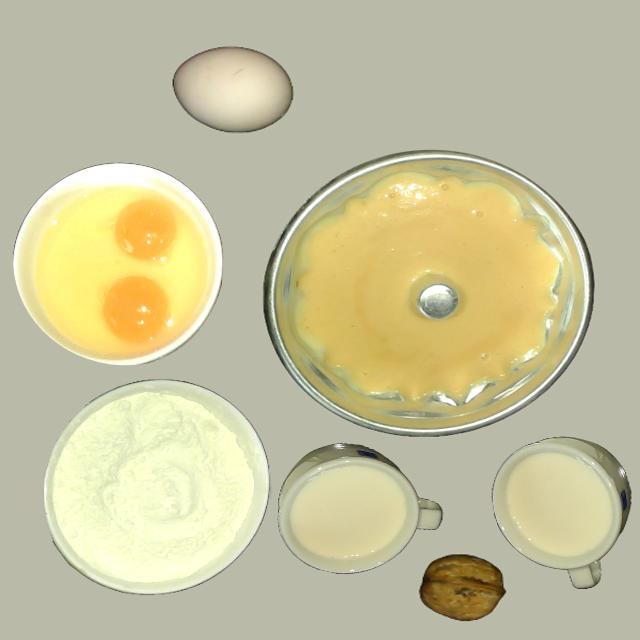Egg: (102, 276, 170, 344), (114, 199, 178, 261)
Flour: (42, 378, 265, 594)
Milk: (501, 451, 613, 560), (289, 464, 410, 564)
Walnut: (410, 552, 513, 640), (420, 553, 506, 620)
